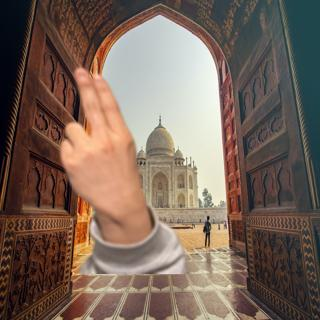DHAVE: (49, 63, 151, 222)
